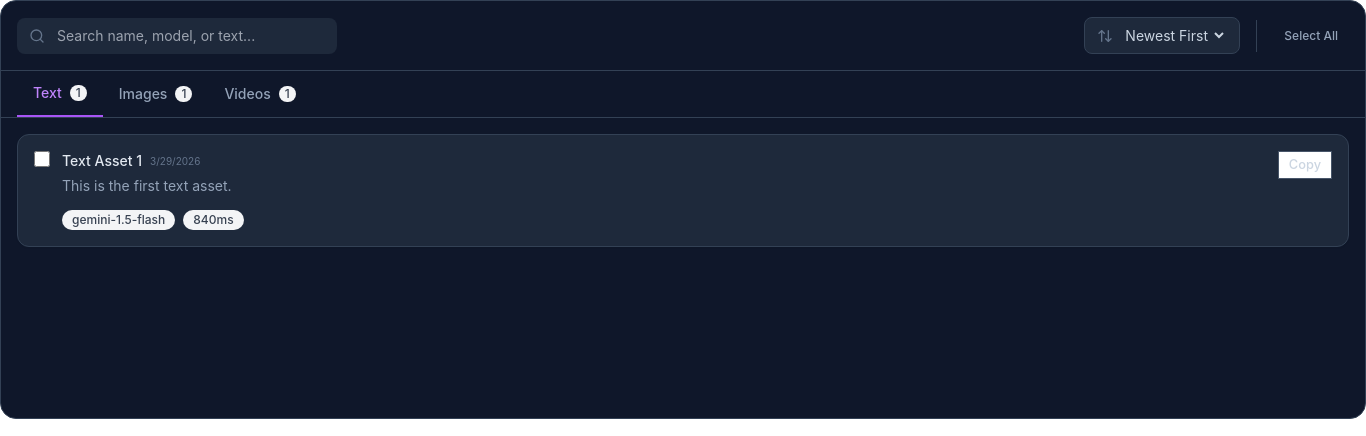
Test: AssetGallery › filters assets by search term
Search for "first"
Type "first" into the field with placeholder "Search name, model, or text...". click: x=177, y=36
box: [17,18,337,54]
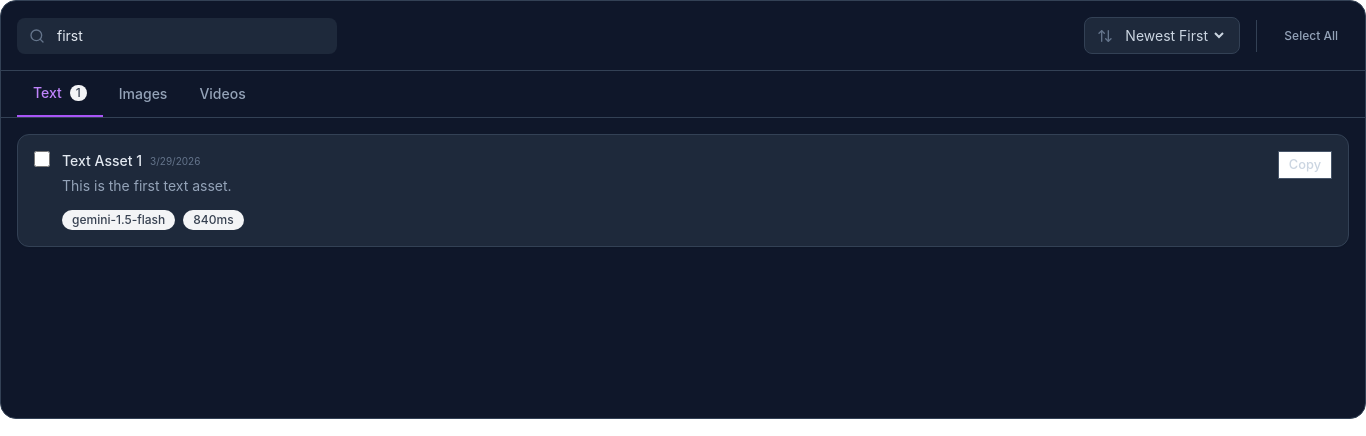
Expected: the text "Text Asset 1" is shown, [62,151,142,171]
Search for something non-existent
Replace the text in the field with placeholder "Search name, model, or text..." with "xyz". click: x=177, y=36
box: [17,18,337,54]
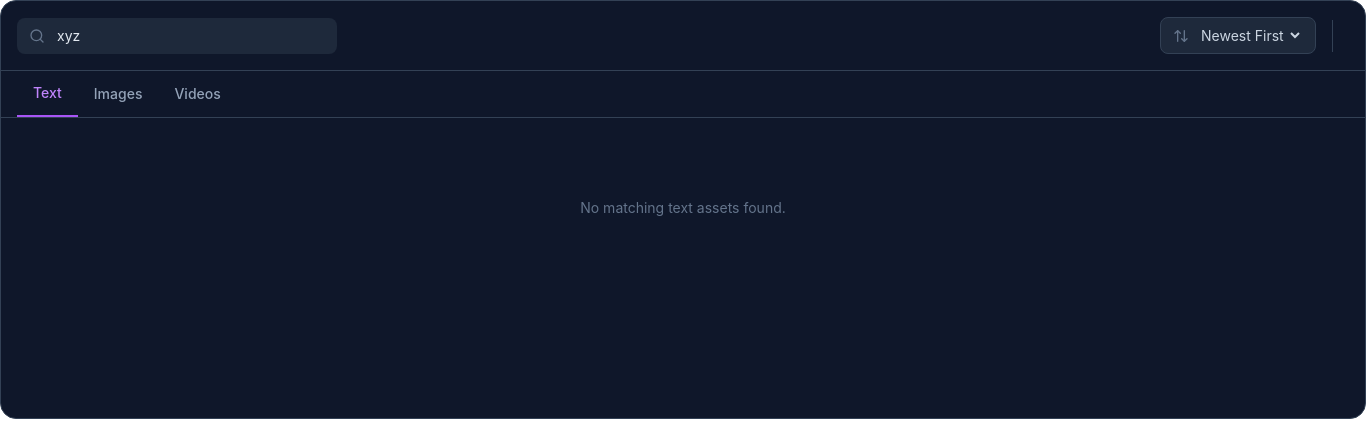
Result: the text "Text Asset 1" is gone
Result: the text "No matching text assets found." is shown at [580,199,786,216]
